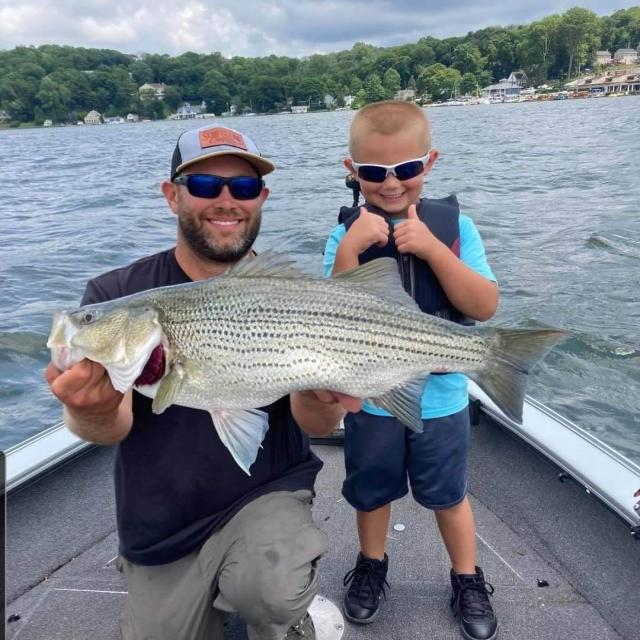Bass - Striped: (47, 252, 567, 472)
